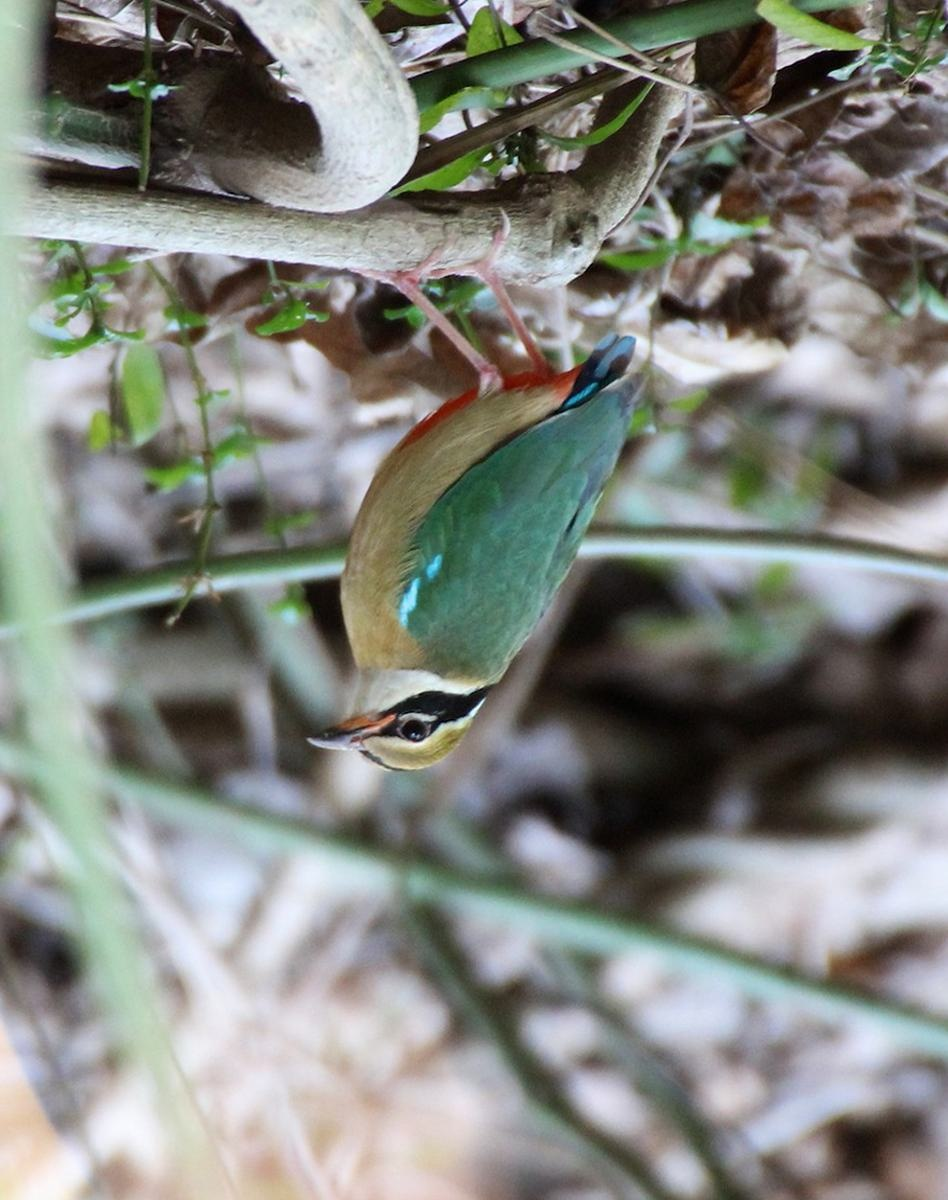pitta: (280, 221, 664, 853)
